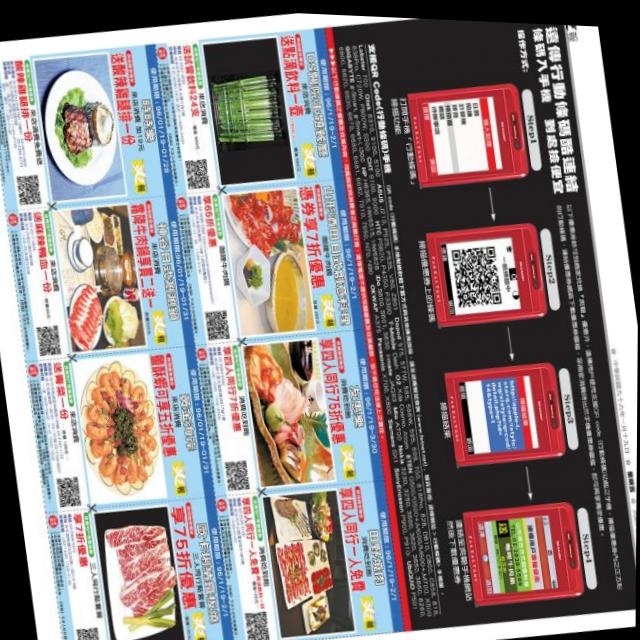qrcode: (452, 242, 502, 306), (185, 157, 211, 189), (17, 174, 42, 207), (226, 459, 251, 491), (206, 309, 231, 341), (57, 476, 82, 508), (37, 325, 62, 357), (246, 609, 271, 640), (77, 627, 102, 640)
